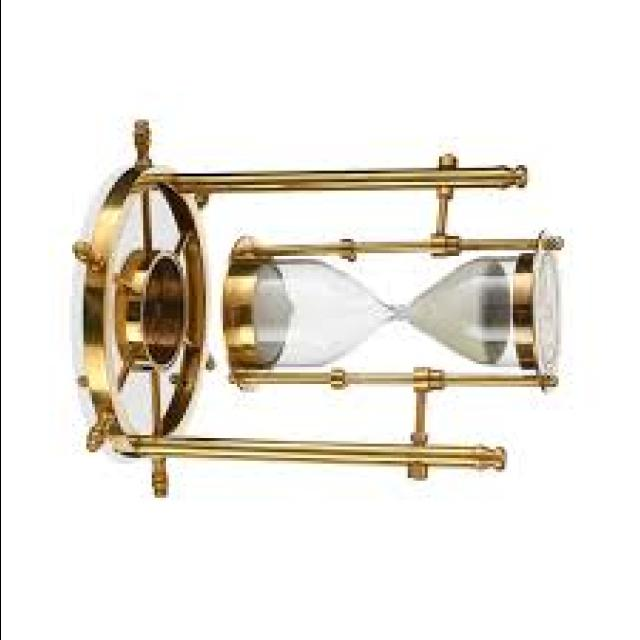clock: (213, 221, 572, 411)
